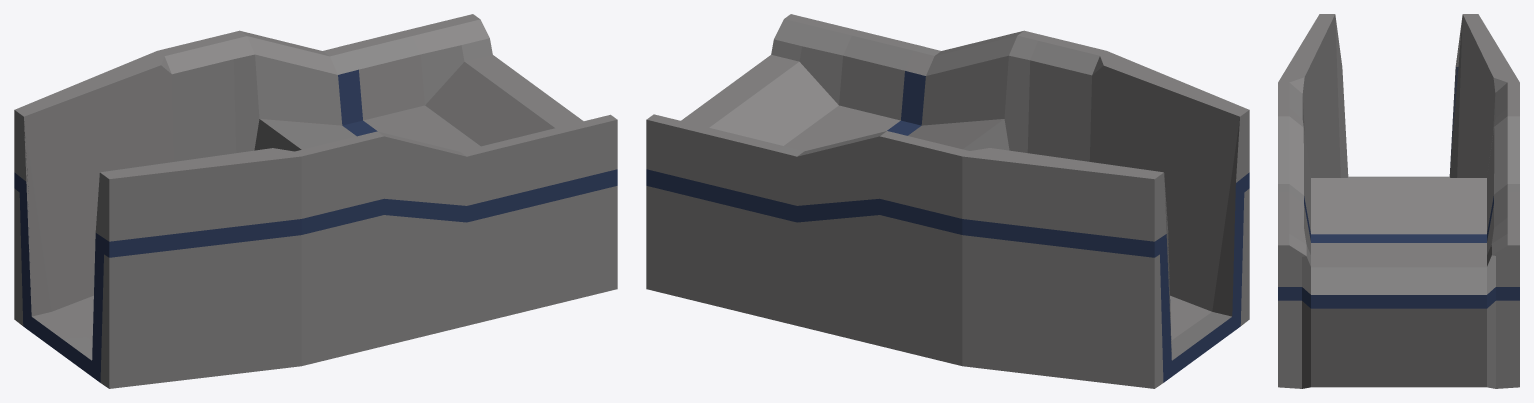
Rendered from arrival_box.fbx.
The picture shows the model from 3 angles, left to right: view 1: azimuth 30°, elevation 25°; view 2: azimuth 150°, elevation 25°; view 3: azimuth 270°, elevation 25°; orthographic projection. The views are drawn at different scales.
Visible parts, largest first — view 1: arrival_box.001; view 2: arrival_box.001; view 3: arrival_box.001.
Part boxes in pixels (x1=…): arrival_box.001: x1=14, y1=14, x2=617, y2=388; arrival_box.001: x1=646, y1=14, x2=1249, y2=388; arrival_box.001: x1=1278, y1=14, x2=1519, y2=388.
Size of the model in its own units: 833 by 335 by 414.
